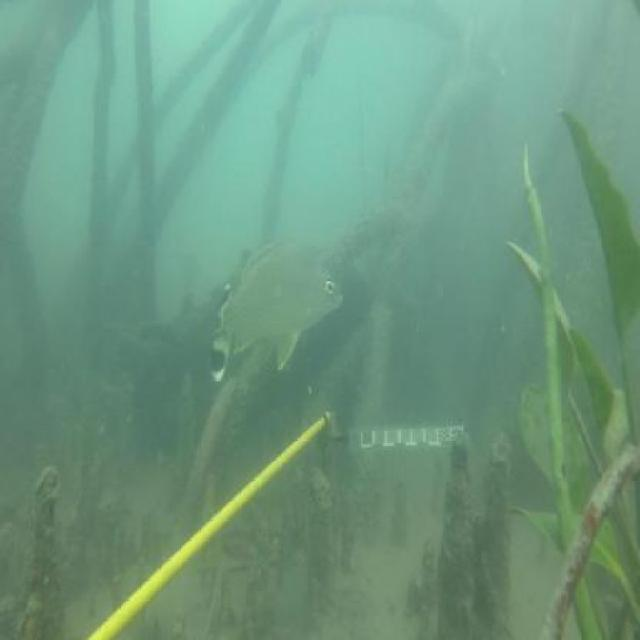Amniataba_caudivittatus: (208, 234, 348, 383)
